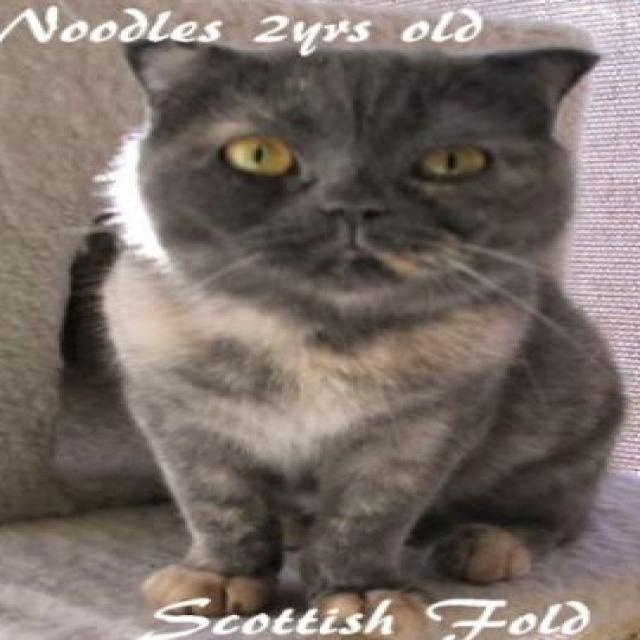Scottish Fold: (50, 29, 636, 627)
